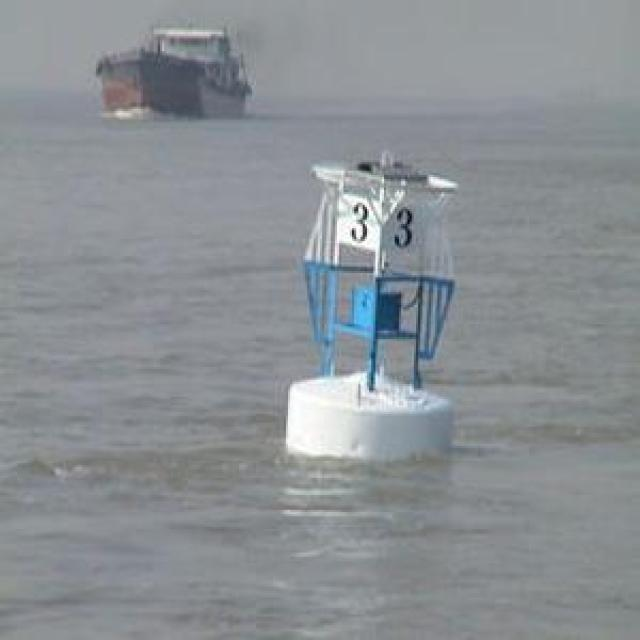cargoship: (89, 22, 259, 118)
